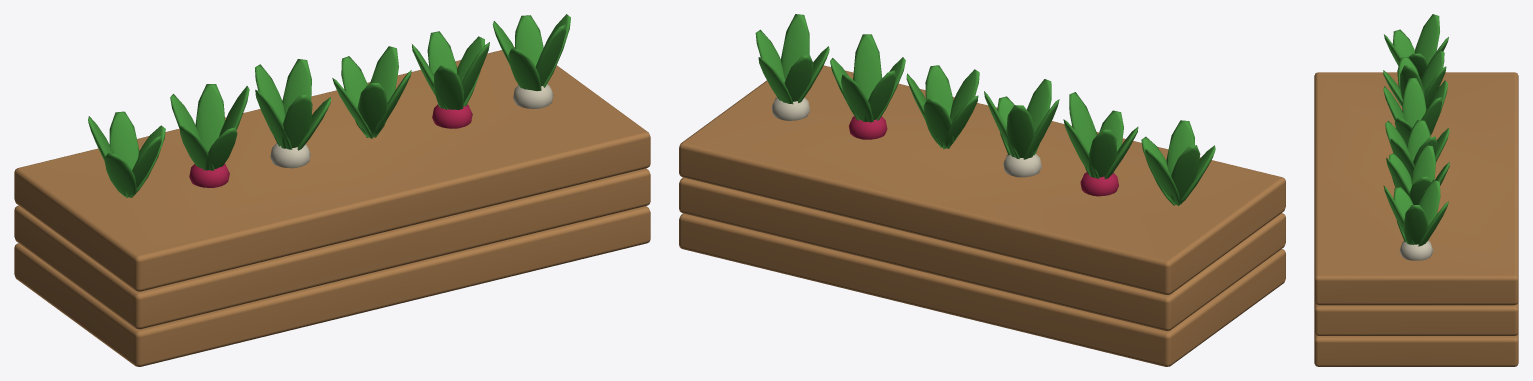
File: furn_veggie_planter.glb
The picture shows the model from 3 angles, left to right: view 1: azimuth 30°, elevation 25°; view 2: azimuth 150°, elevation 25°; view 3: azimuth 270°, elevation 25°; orthographic projection. The views are drawn at different scales.
Parts seen in each view (by area): view 1: furn_veggie_planter_main; view 2: furn_veggie_planter_main; view 3: furn_veggie_planter_main.
Part boxes in pixels (x1,y1,x2,y2): furn_veggie_planter_main: (14, 14, 650, 366); furn_veggie_planter_main: (679, 14, 1285, 366); furn_veggie_planter_main: (1314, 14, 1518, 366).
Bounding box in the file's own units: 1.72 × 0.6358 × 0.72.
